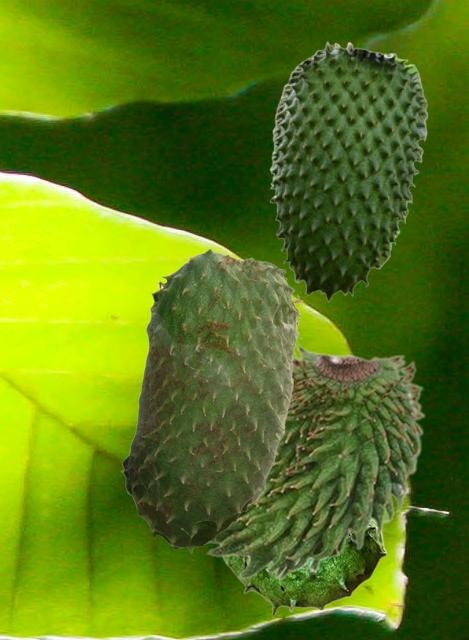guyabano: (120, 247, 302, 552), (198, 342, 425, 579), (269, 41, 427, 301), (222, 522, 386, 616)
